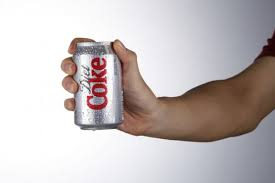can: (64, 33, 128, 133)
